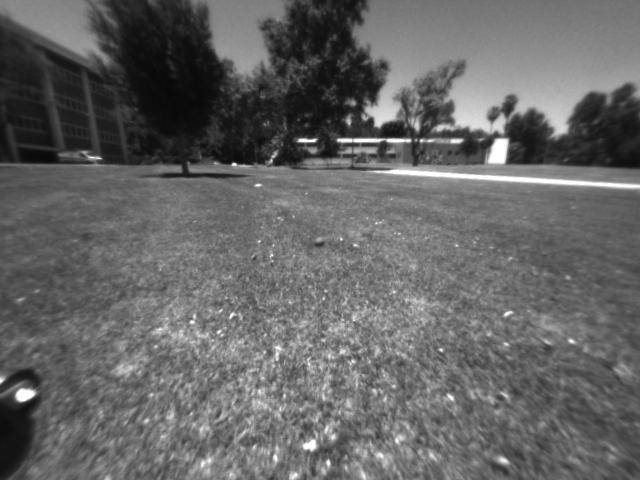dogtoy: (310, 230, 333, 253)
